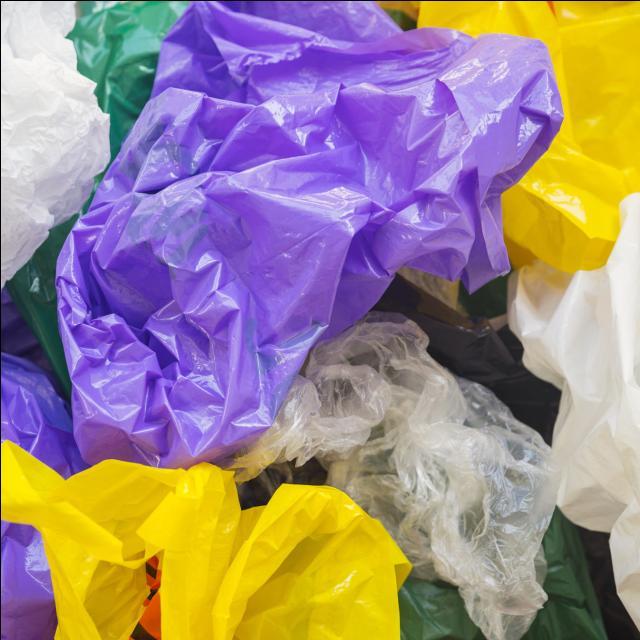plastik: (56, 0, 561, 467), (224, 311, 558, 640), (0, 440, 410, 640), (416, 0, 640, 271), (508, 192, 640, 632), (0, 0, 109, 287), (68, 0, 188, 159), (0, 289, 87, 476), (5, 214, 76, 395), (518, 508, 607, 640), (0, 520, 55, 640), (397, 577, 487, 640)
